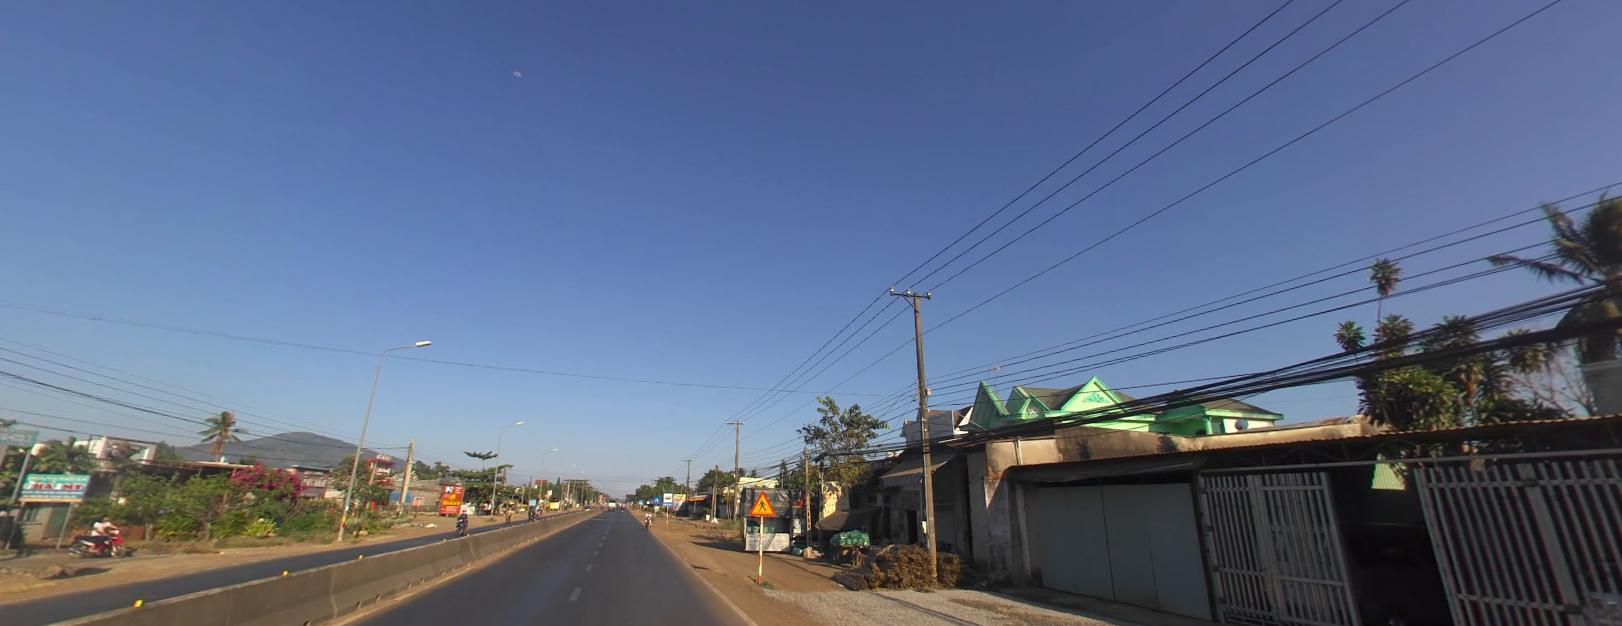Cam nguoc chieu: (602, 494, 605, 497)
Hieu lenh: (602, 498, 605, 501)
Nguy hiem: (748, 490, 776, 515)
